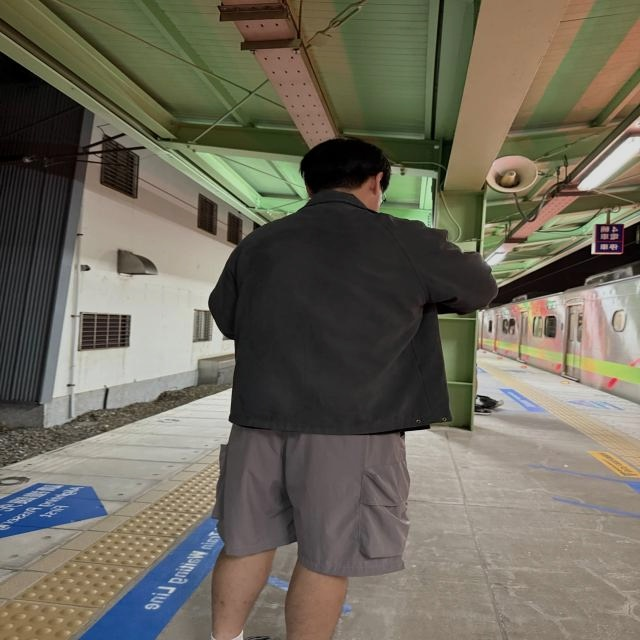Sin_Casco_Mascarrilla: (297, 136, 389, 205)
Sin_Chaleco: (232, 212, 425, 428)
